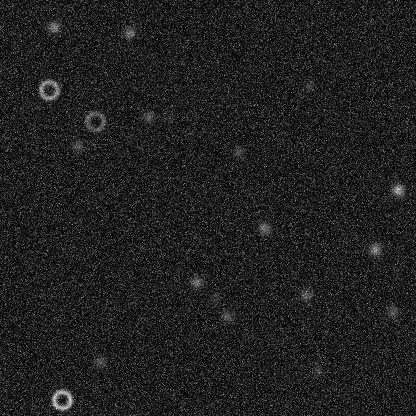Ring: (49, 387, 73, 411), (83, 109, 107, 133), (36, 77, 60, 101)
Spot: (69, 137, 85, 153), (45, 18, 61, 34), (298, 286, 314, 302), (385, 303, 401, 319), (309, 363, 325, 379), (390, 181, 406, 197), (366, 241, 382, 257), (218, 308, 234, 324), (230, 143, 246, 159), (140, 108, 156, 124), (206, 289, 222, 305), (120, 24, 136, 40), (160, 109, 176, 125), (188, 274, 204, 290), (300, 77, 316, 93), (256, 219, 272, 235), (91, 353, 107, 369)
